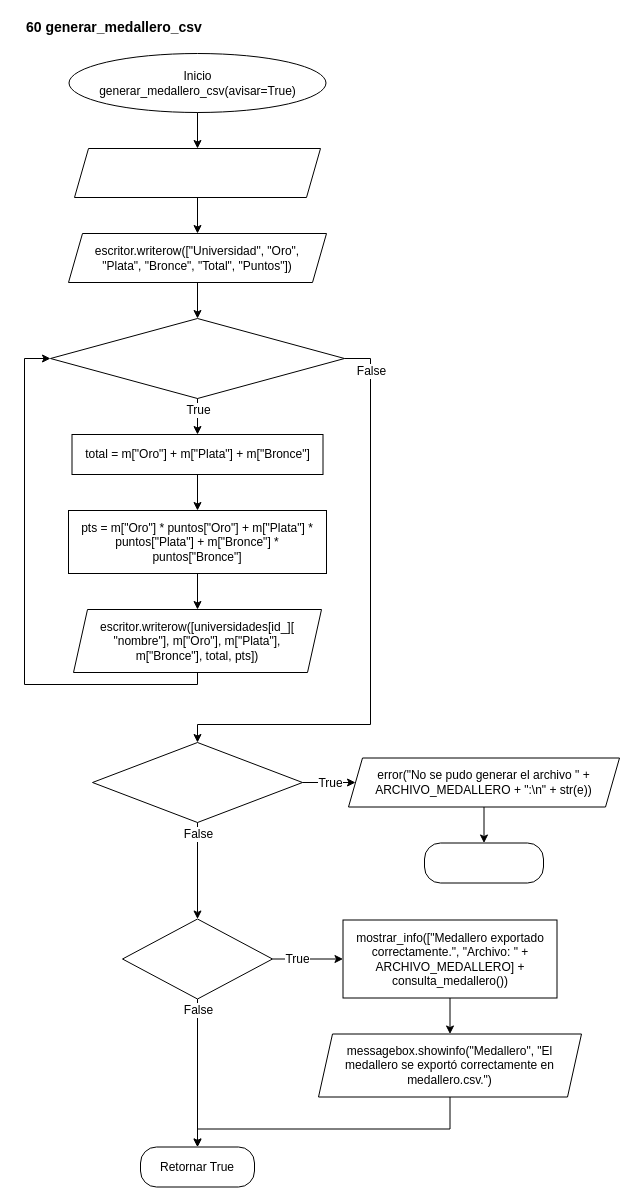
The diagram is 637 pixels wide and 1204 high, and some of its shapes have lost their labels. The shapes that lost their labels are listed below. From the top down, each one's box as (x1, y1, x2, y2) in pixels, then its label:
(74, 148, 320, 198): try: abrir medallero.csv en modo "w" escritor = csv.writer(archivo)
(50, 318, 344, 398): for id_, m in calcular_medallero().items()
(92, 742, 302, 822): ¿Ocurrió OSError?
(424, 842, 544, 883): Retornar False
(122, 918, 272, 999): avisar
